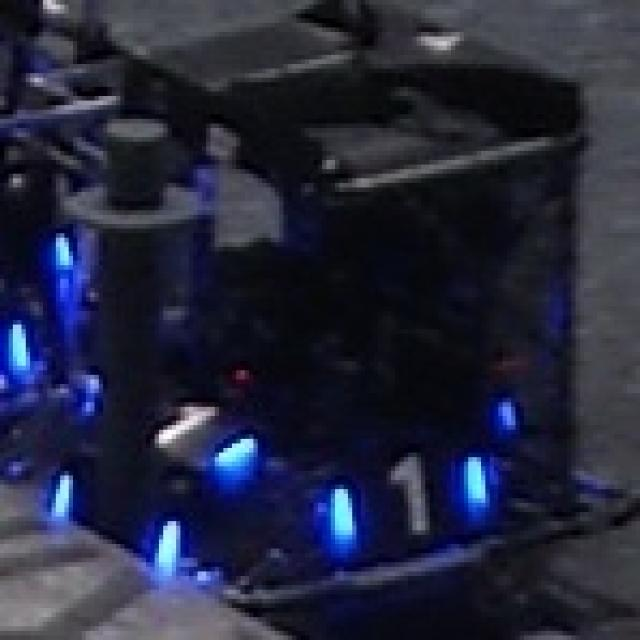B1: (318, 448, 490, 549), (138, 388, 254, 476)
